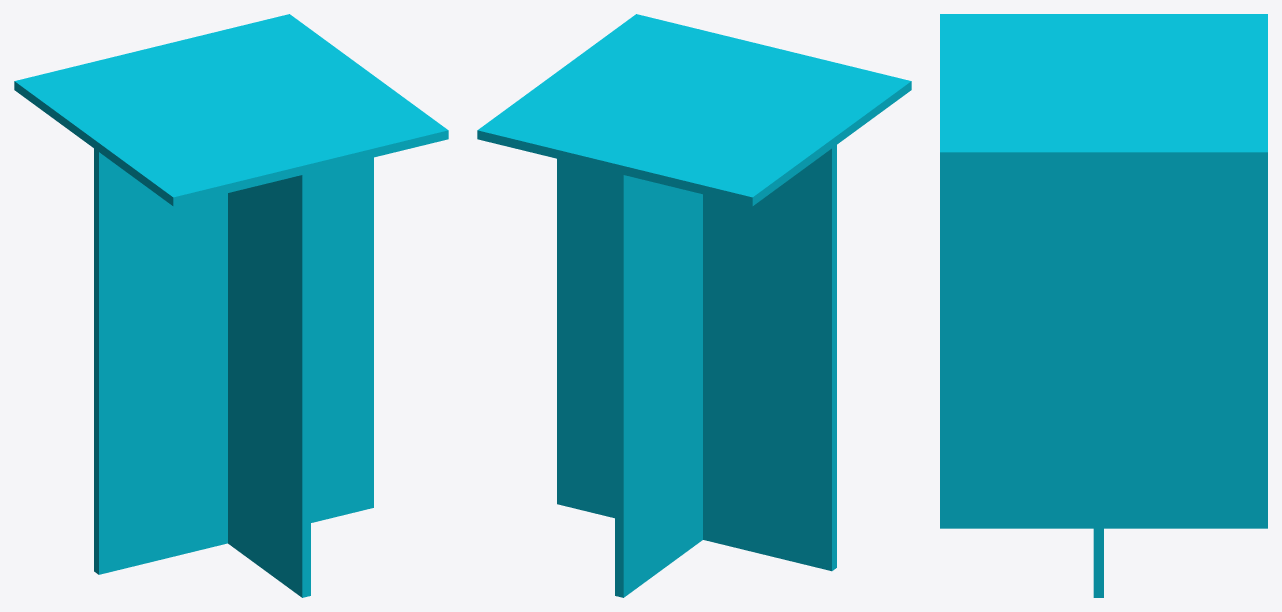
The picture shows the model from 3 angles, left to right: view 1: azimuth 30°, elevation 25°; view 2: azimuth 150°, elevation 25°; view 3: azimuth 270°, elevation 25°; orthographic projection. The views are drawn at different scales.
Visible parts, largest first — view 1: 人物2-0; view 2: 人物2-0; view 3: 人物2-0.
Part boxes in pixels (x1,y1,x2,y2): 人物2-0: [14, 14, 448, 597]; 人物2-0: [477, 14, 911, 597]; 人物2-0: [940, 14, 1267, 597].
Bounding box in the file's own units: 32 × 48 × 32.
1 material, 1 textured.
